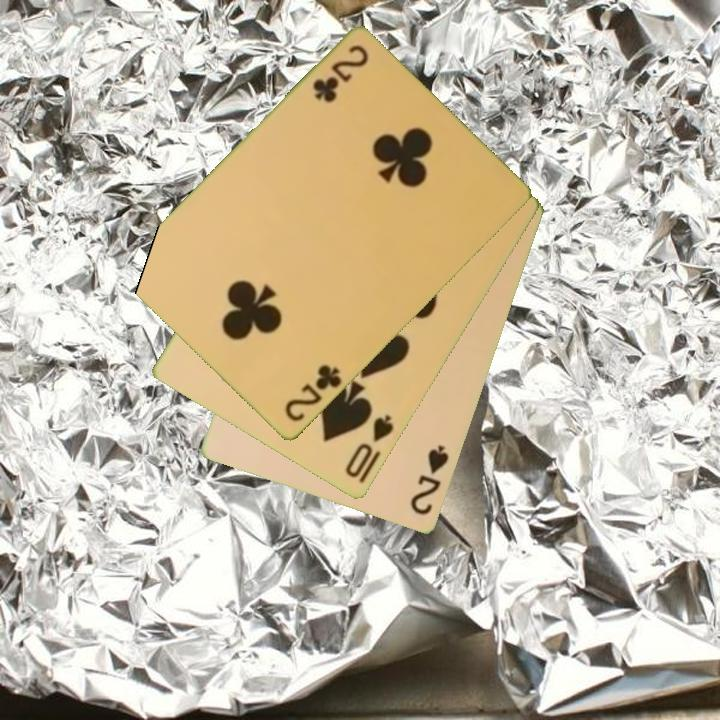10s: (342, 411, 397, 482)
2c: (281, 361, 345, 425), (308, 42, 372, 106)
2s: (407, 442, 453, 518)
